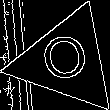O_S: (39, 32, 94, 90)
